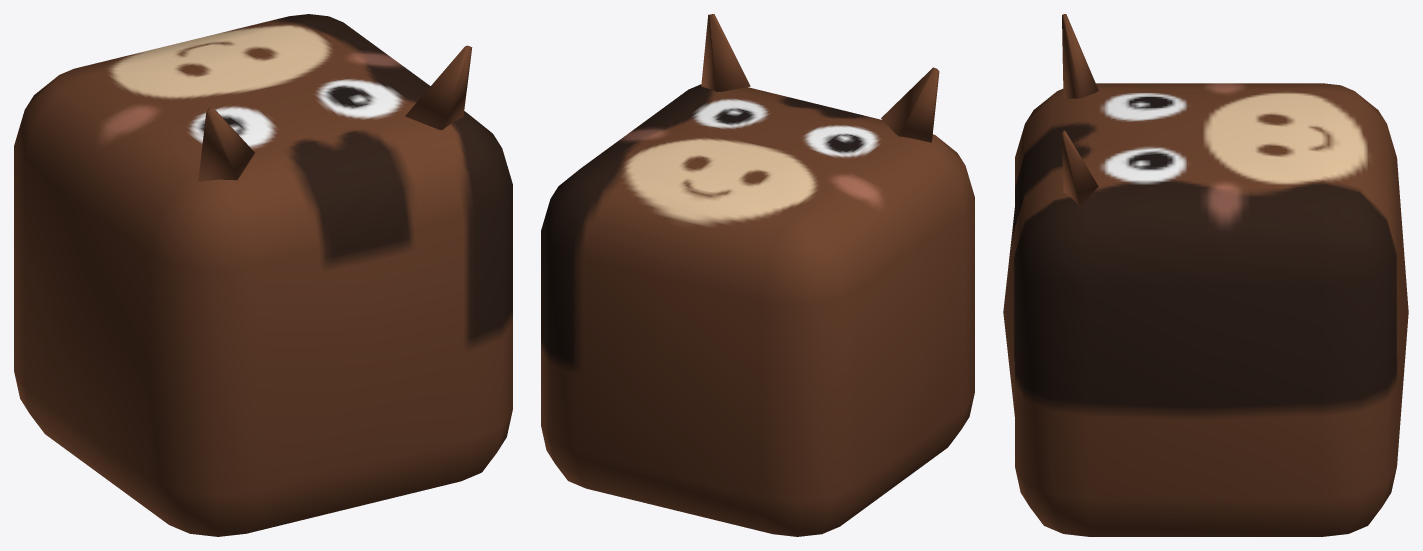
The model's file is Horse_1x1.fbx.
3 renders of one model, left to right at view 1: azimuth 30°, elevation 25°; view 2: azimuth 150°, elevation 25°; view 3: azimuth 270°, elevation 25°, orthographic. The views are drawn at different scales.
Parts seen in each view (by area): view 1: Horse_1x1; view 2: Horse_1x1; view 3: Horse_1x1.
Boxes of the visible parts, x1,y1,x2,y2 form: Horse_1x1: (14, 14, 512, 536); Horse_1x1: (541, 14, 974, 536); Horse_1x1: (1003, 14, 1408, 536).
Size of the model in its own units: 0.976 by 1.04 by 0.976.
1 material, 1 textured.
